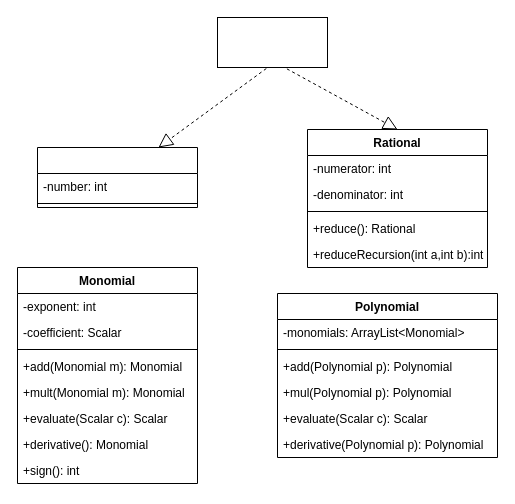
This 515x504 diagram has some shape labels left out. Here are the shapes that lost their labels. From the top down, the box of each, then its label:
(216, 16, 328, 68): «interface» Scalar
(36, 146, 198, 208): Integer
